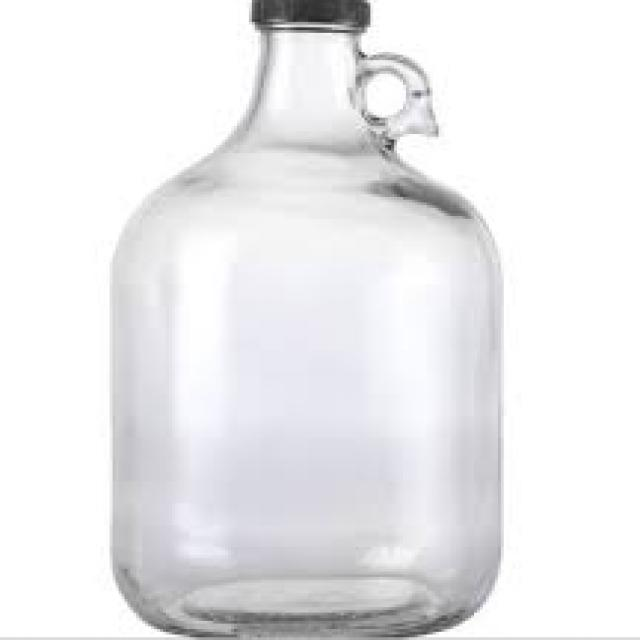Glass-Non-Biodegradable but Recyclable-: (103, 0, 506, 640)
